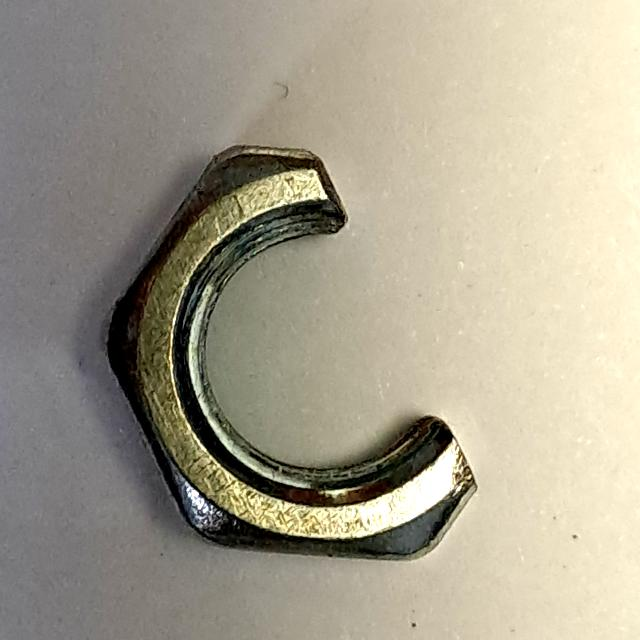Fracture: (79, 130, 499, 585)
